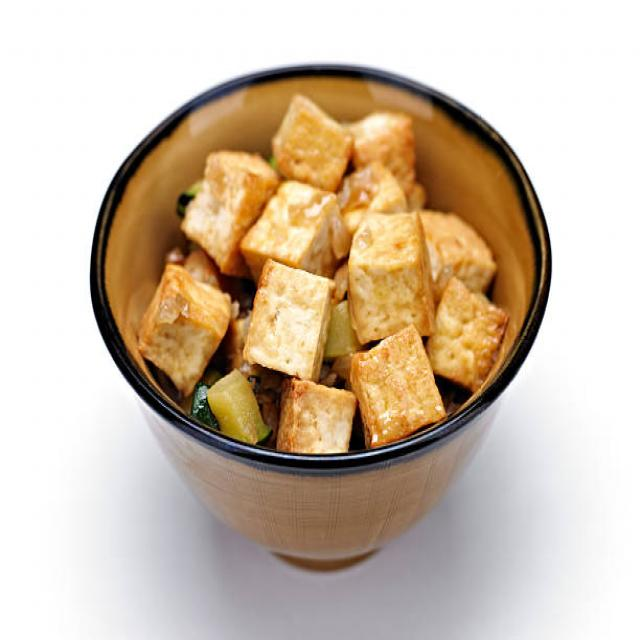Tofu Block: (137, 266, 230, 394), (348, 211, 435, 343), (244, 262, 339, 379), (353, 328, 444, 445), (183, 148, 261, 273), (271, 93, 353, 185)
